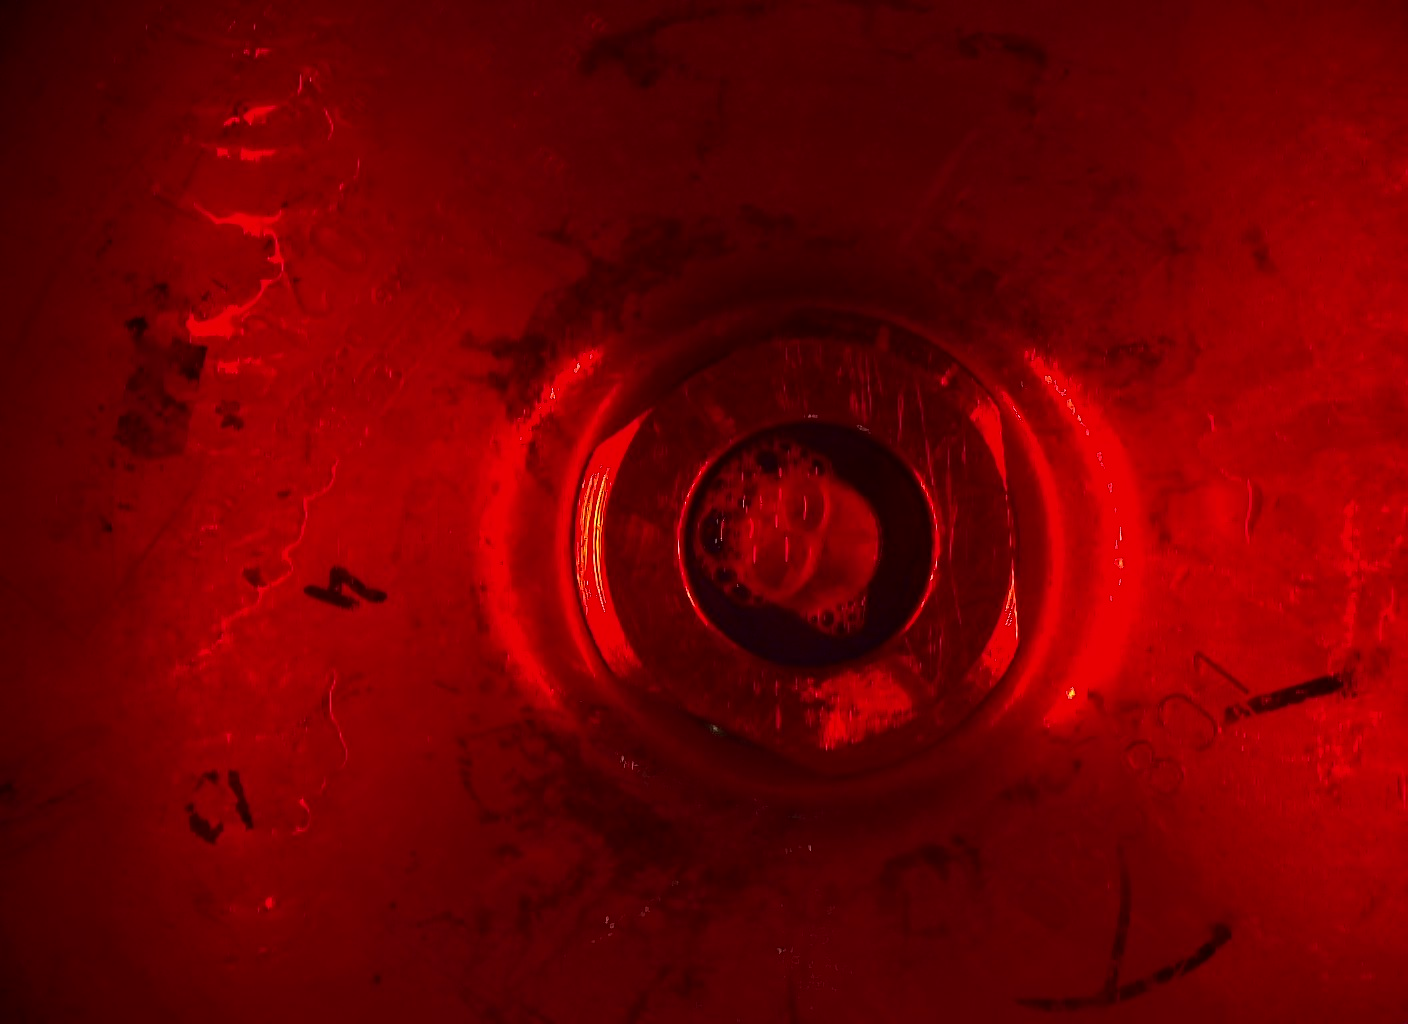pena: (682, 428, 838, 615), (799, 591, 890, 652)
